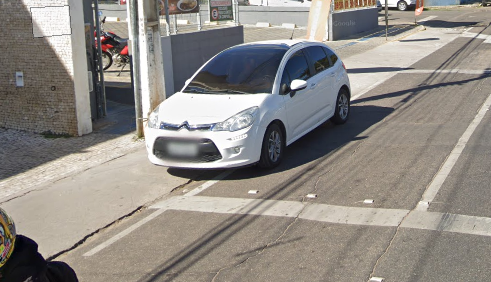car: (143, 26, 358, 172)
